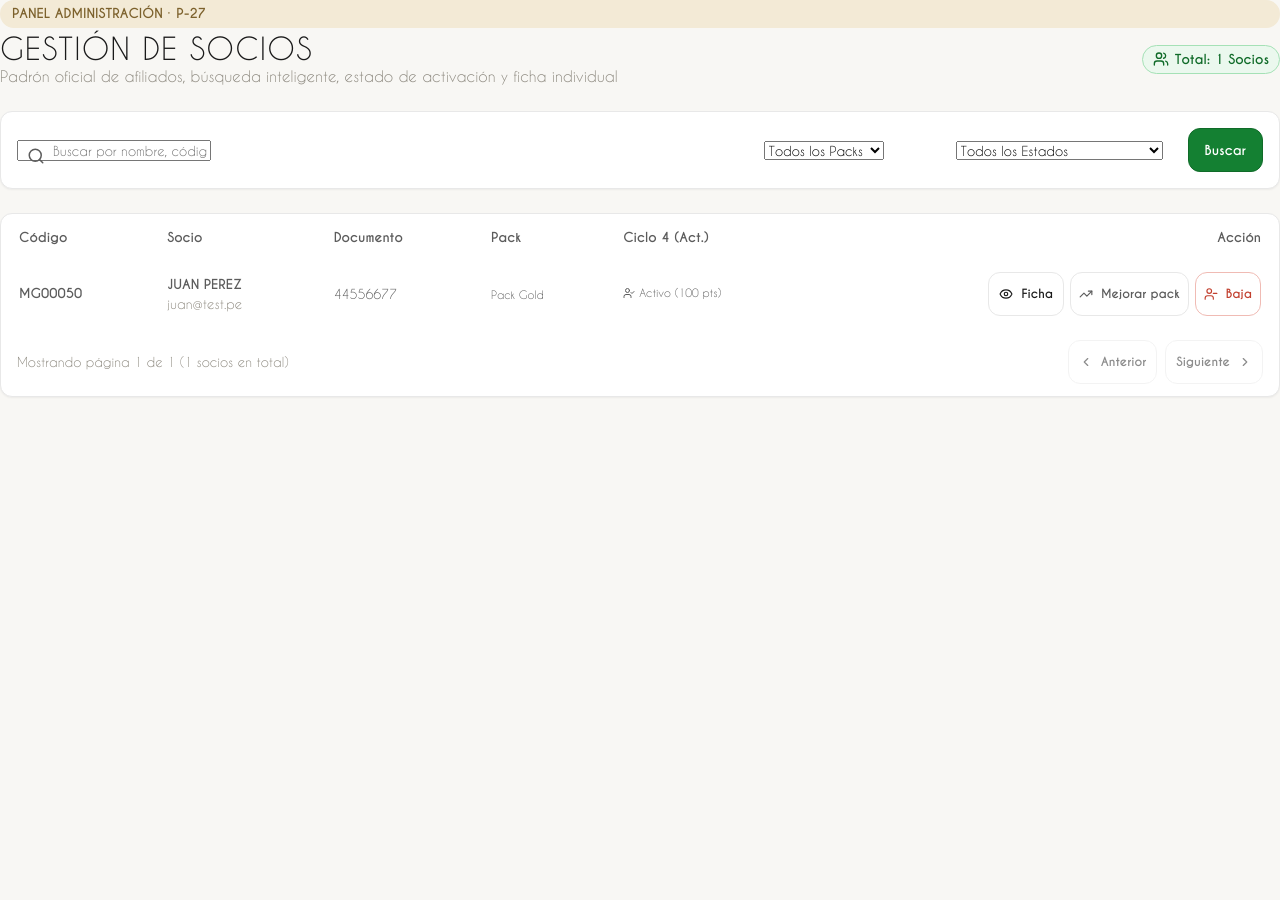
Scenario: TAREA-24 · Bloque 6: Pruebas de Consistencia de Interfaz › 4 · Dar de baja un socio abre DialogoConfirmar
Check: the text "MG00050" is shown, box [19,285,82,302]
Click the button "Baja".
click(1228, 294)  # box [1195,272,1261,316]
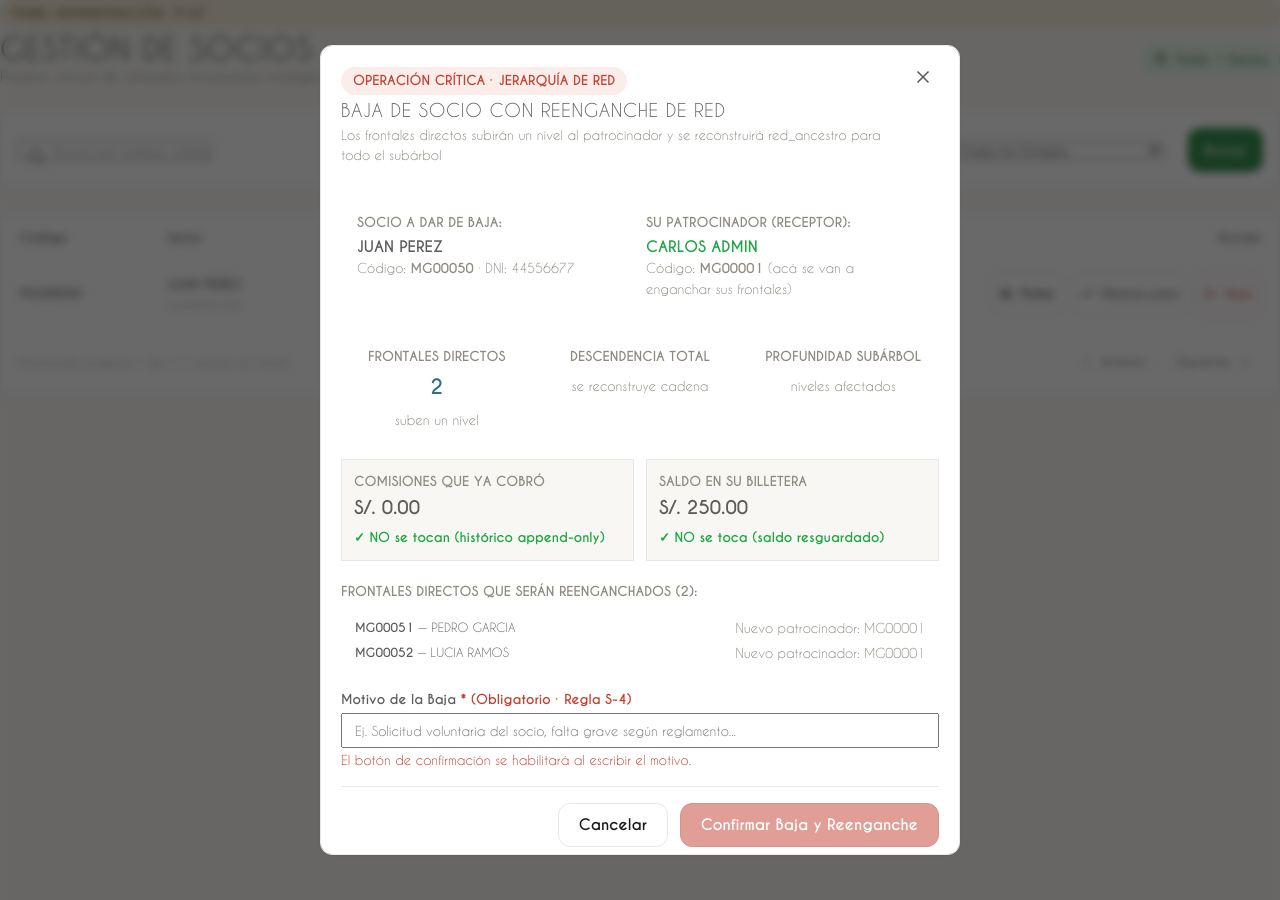
Check: the heading "Baja de Socio con Reenganche de Red" is shown, box [341,98,726,120]
Check: the field with id "motivo-baja" is shown
Replace the text in the field with id "motivo-baja" with "Incumplimiento grave de normas comerciales" at [640, 730], box [341,713,939,748]
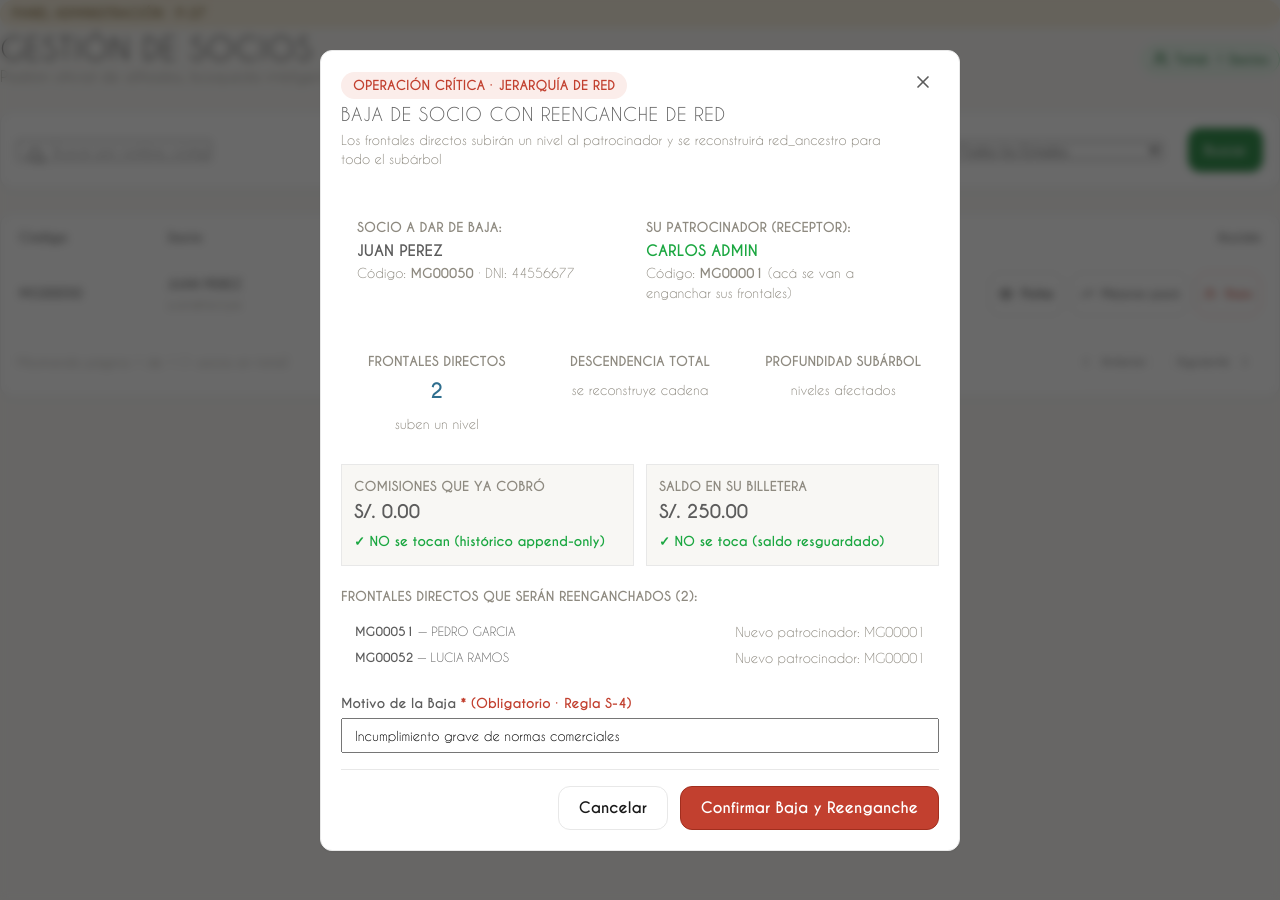
Check: the button "Confirmar Baja y Reenganche" is enabled
Click the button "Confirmar Baja y Reenganche".
click(809, 808)  # box [680,786,939,830]
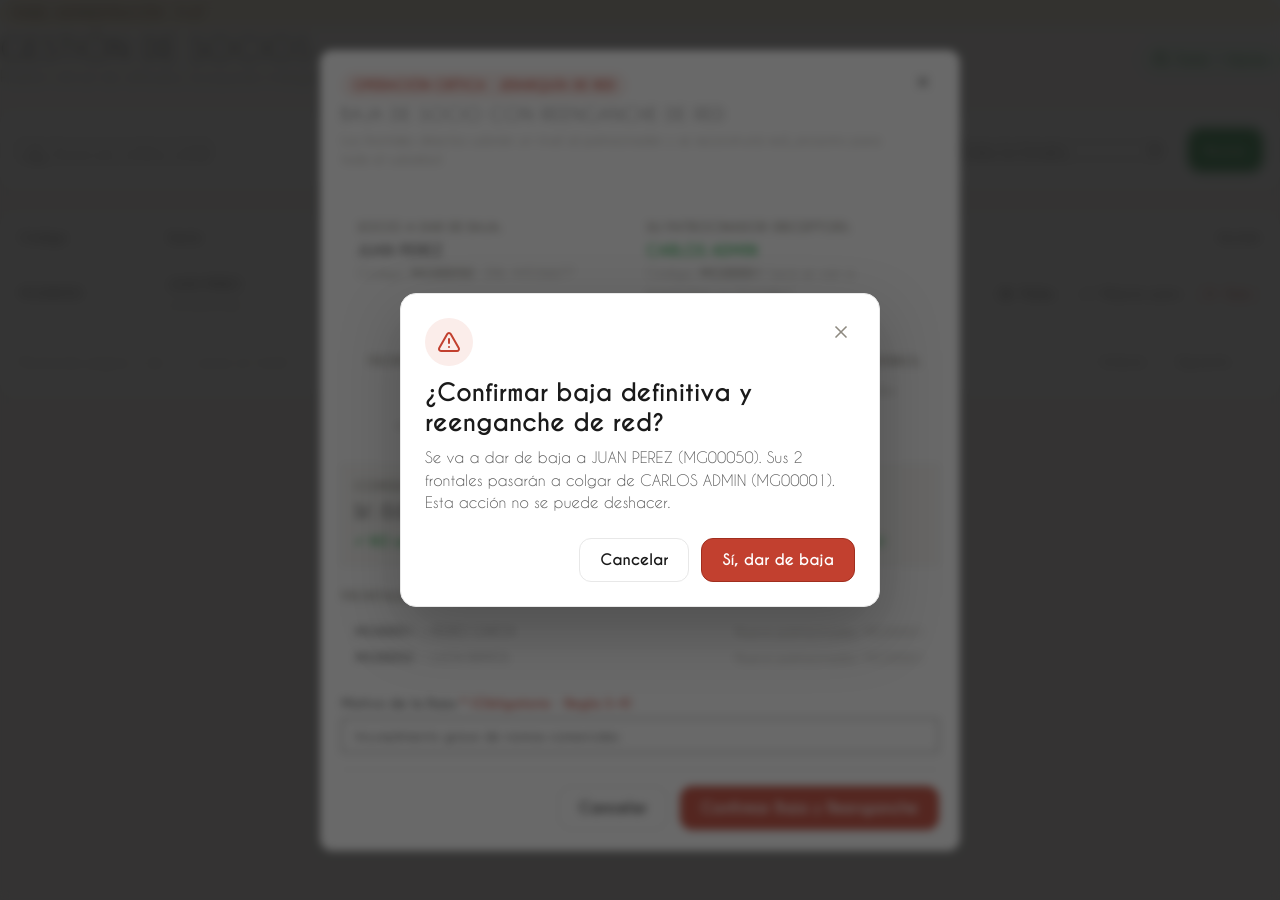
Check: the heading "¿Confirmar baja definitiva y reenganche de red?" is shown, box [425,377,752,438]
Check: the button "Sí, dar de baja" is shown, box [701,538,855,582]
